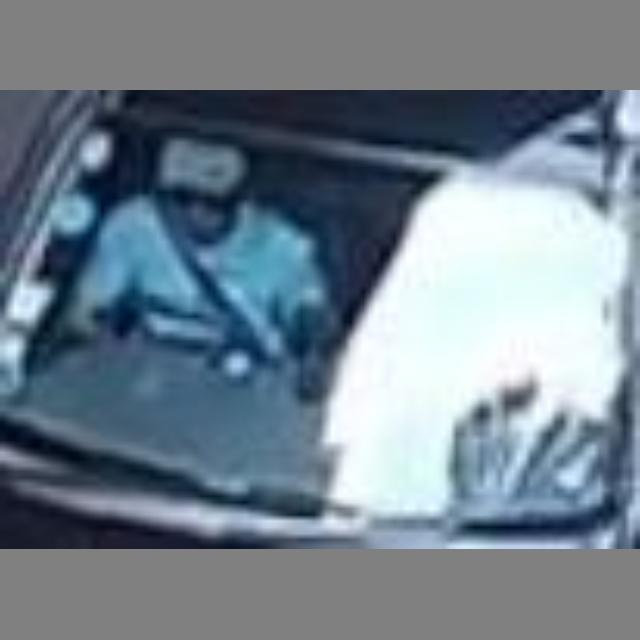pakai: (68, 146, 336, 388)
